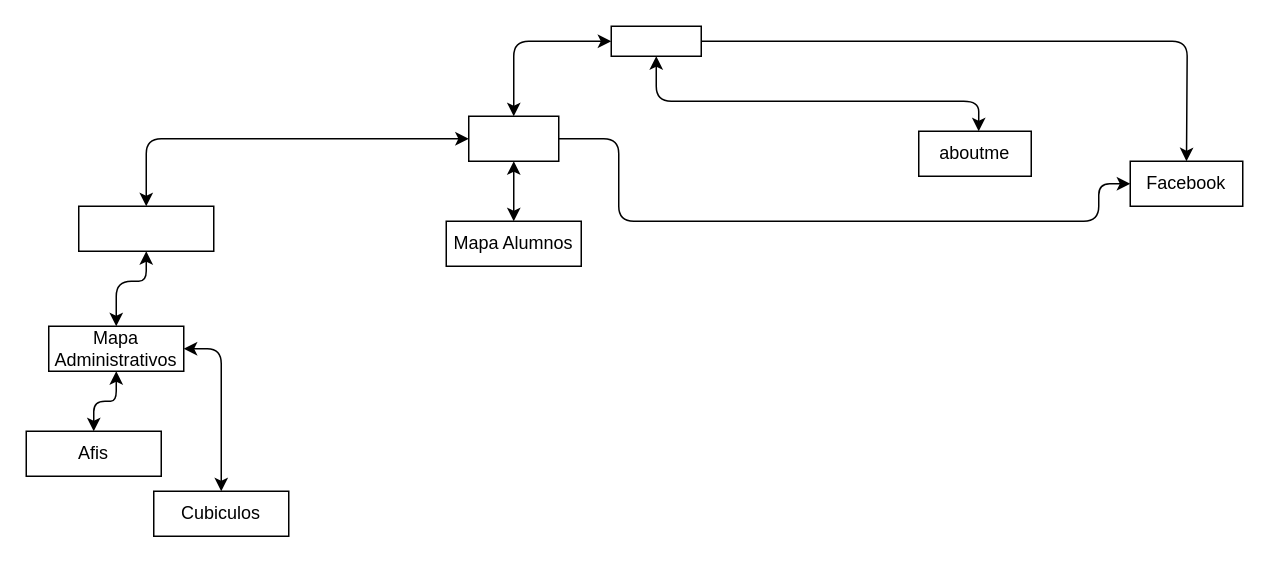
Some shapes in this 1269 by 563 pixel diagram are drawn without their labels. The box of each missing label's shape, as (x1, y1, x2, y2) in pixels:
index: (610, 25, 701, 56)
Sesion Administrativos: (77, 205, 214, 251)
Sesion Alumnos: (467, 115, 559, 161)
